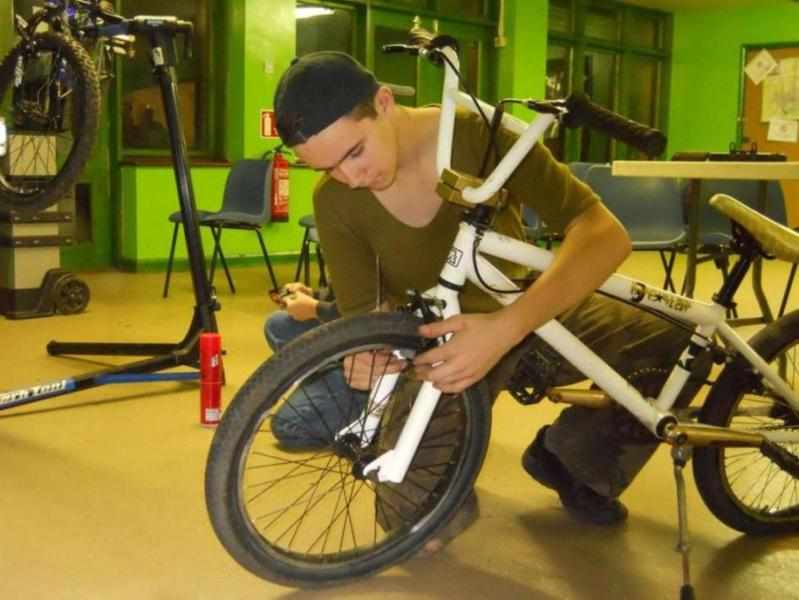person: (274, 49, 713, 558)
